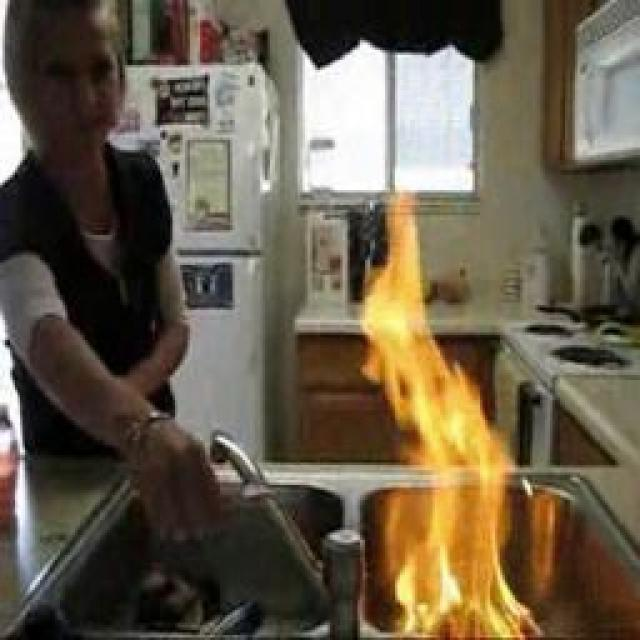Fire: (361, 206, 511, 640)
